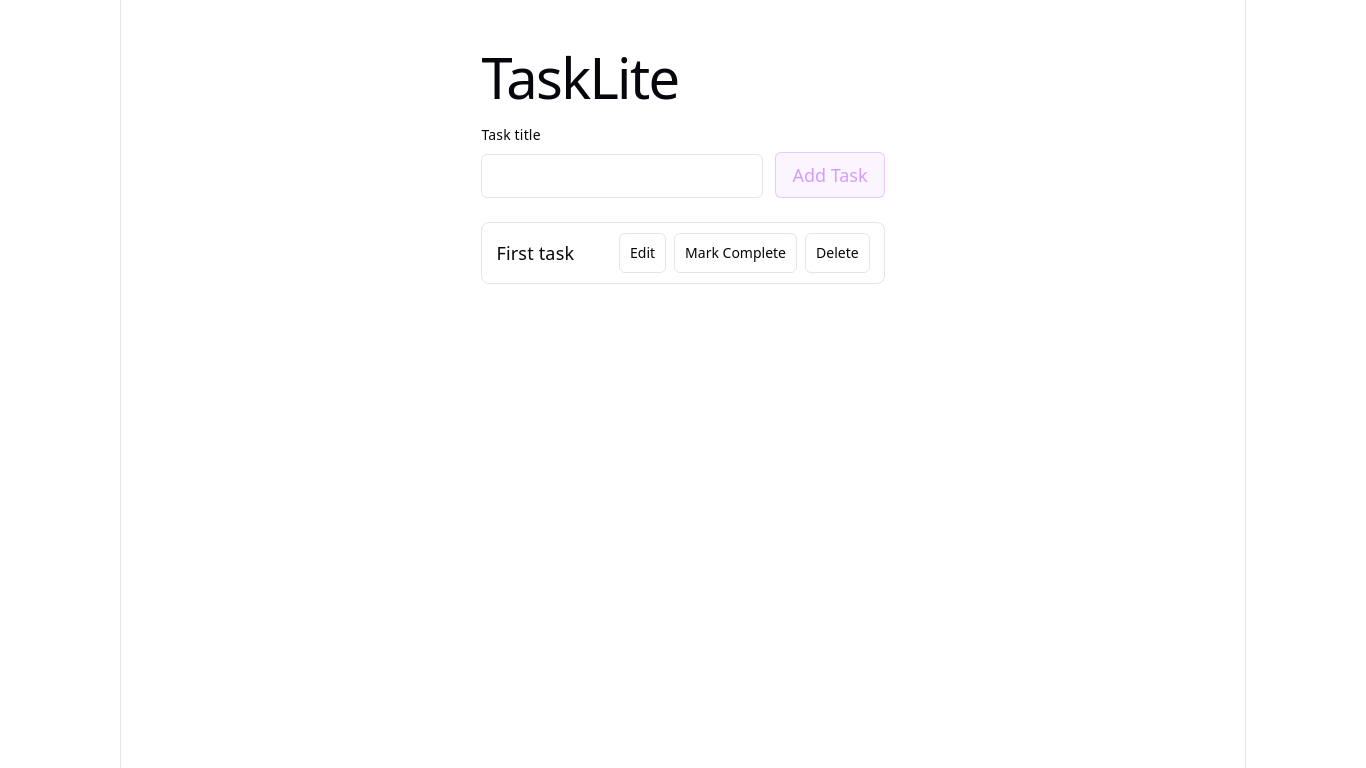
Test: EPMCDMETST-66637 – enter edit mode from task list › AC1: clicking Edit switches a task to edit mode with prefilled title
Click the button with aria-label "edit task". click: (643,253)
box: left=619, top=233, right=666, bottom=273
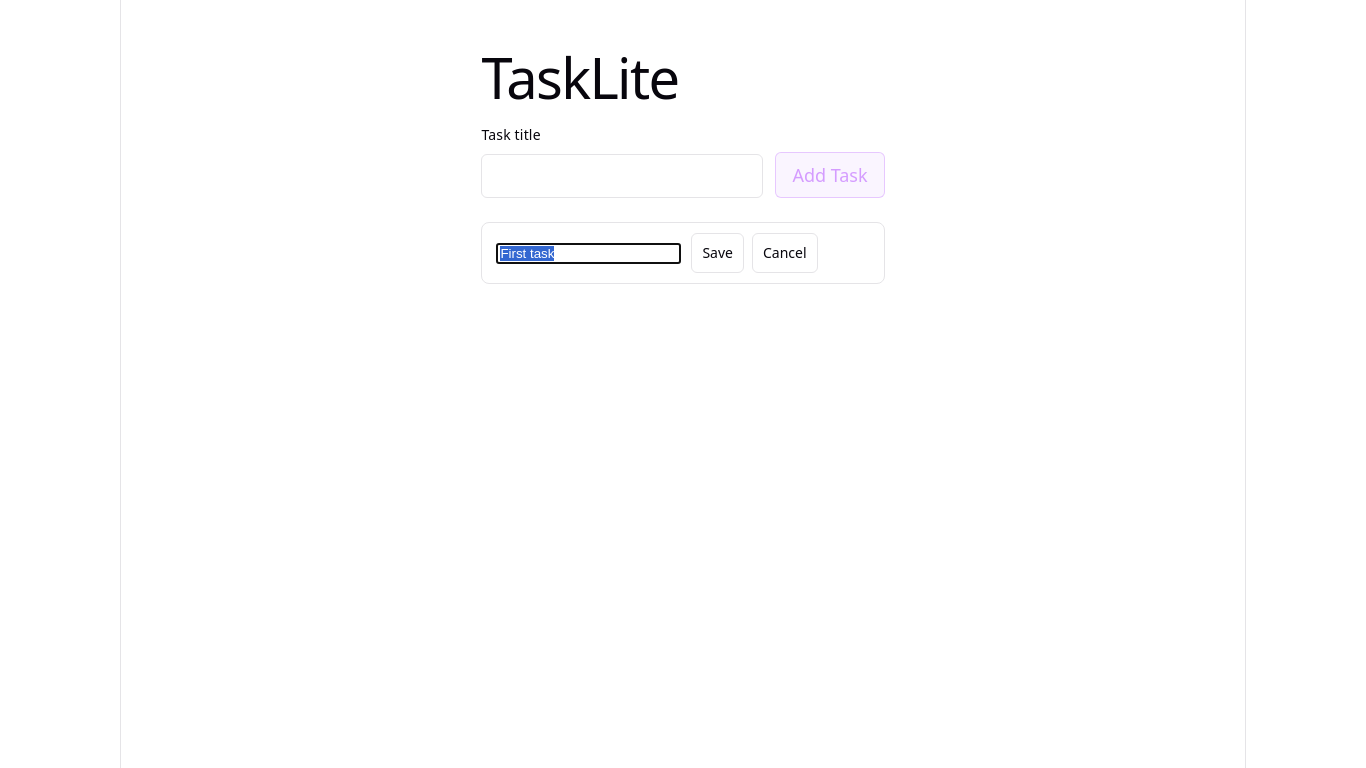
expect the field named "edit task title" holds "First task": met, box left=496, top=243, right=681, bottom=264
